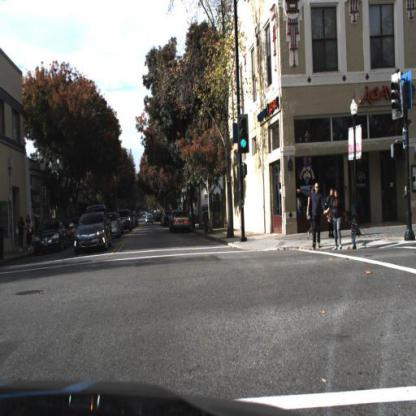car: (73, 209, 113, 256), (33, 219, 68, 257), (108, 210, 122, 246), (172, 210, 191, 235)
pedestrian: (298, 174, 324, 251), (324, 186, 348, 252), (24, 214, 36, 258), (348, 215, 362, 251), (17, 215, 27, 255)
trafficLight: (238, 114, 250, 154)
